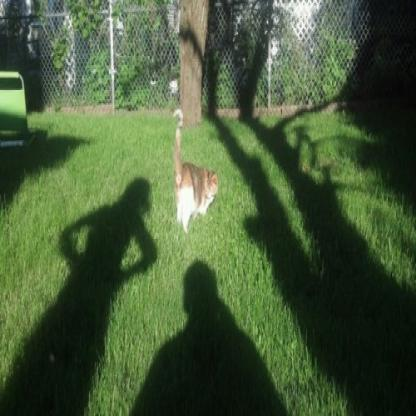Target: (170, 106, 218, 236)
